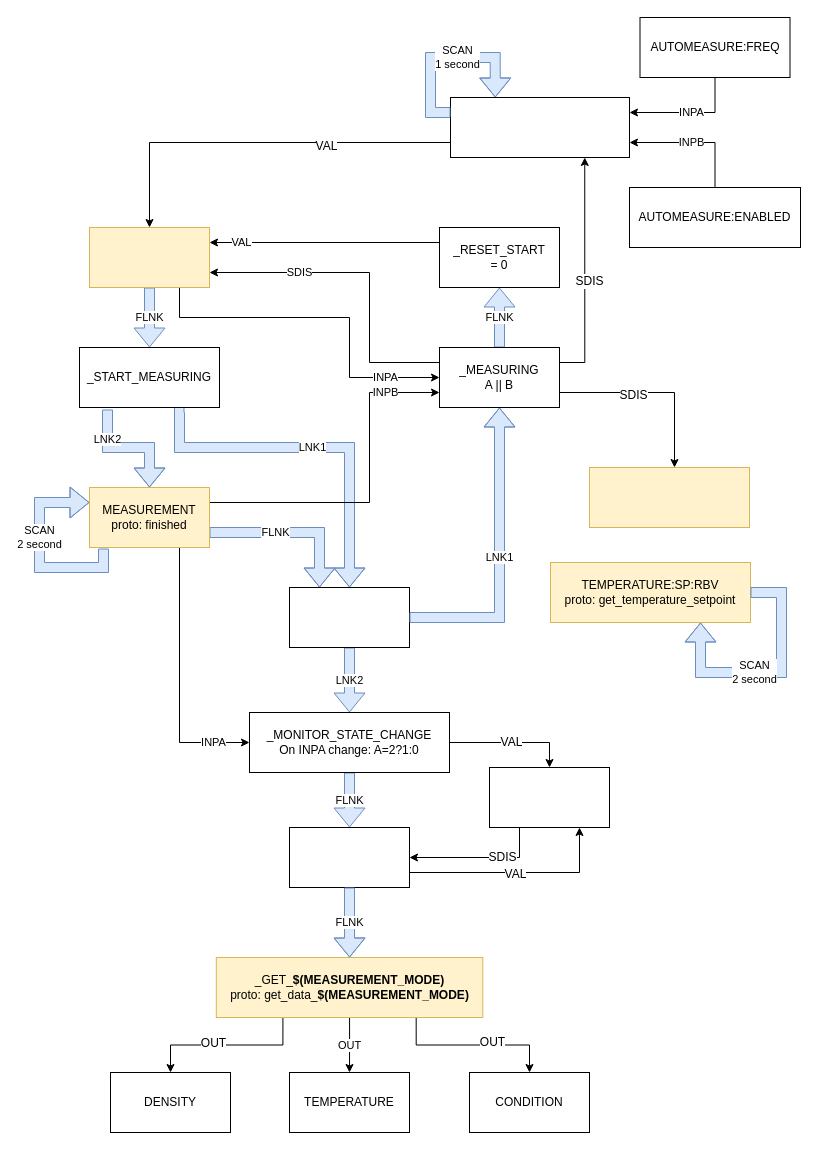
Some shapes in this 818 by 1150 pixel diagram are drawn without their labels. Each missing label, with the centre of its shape:
_DATA_AVAILABLE: [549,797]
_GET_DATA = 0: [349,857]
_UPDATE_FLAGS: [349,617]
AUTOMEASURE B=0?MAX(A,1):VAL=0?A:VAL-1: [540,127]
START proto: start: [149,257]
TEMPERATURE:SP proto: set_temperature: [669,497]
